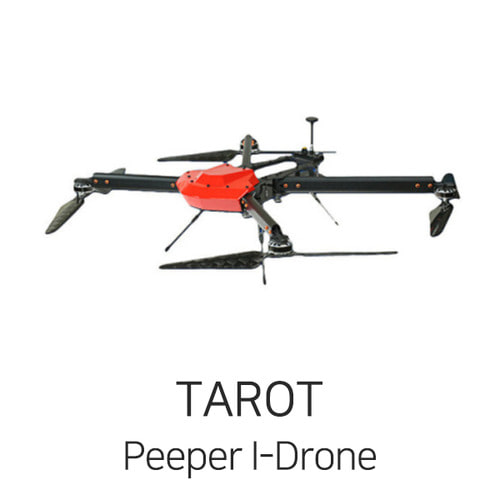drone: (40, 114, 463, 290)
